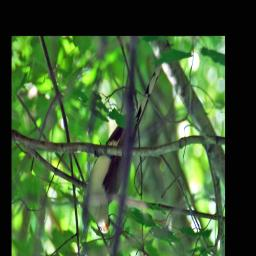Cuckoo: (84, 61, 168, 236)
